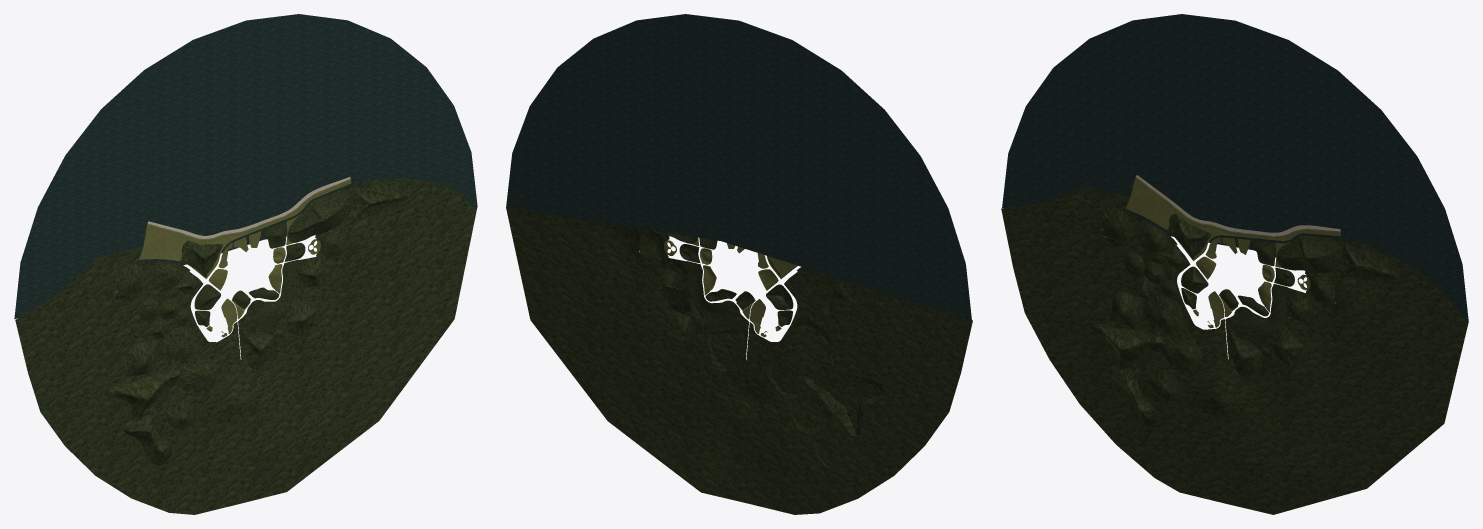
3 views of the same model, side by side, from view 1: azimuth 30°, elevation 25°; view 2: azimuth 150°, elevation 25°; view 3: azimuth 330°, elevation 25° (orthographic).
Parts seen in each view (by area): view 1: d_forest_3, d_ocean_0, d_forest_2, d_forest_1, d_grase_6, d_gravel_5, d_grase_4; view 2: d_ocean_0, d_forest_3, d_forest_1, d_forest_2, d_grase_6; view 3: d_forest_3, d_ocean_0, d_forest_2, d_forest_1, d_grase_6, d_gravel_5, d_grase_4.
Part boxes in pixels (x1,y1,x2,y2): d_forest_3: [15, 178, 477, 514]; d_ocean_0: [14, 14, 477, 319]; d_forest_2: [109, 240, 222, 465]; d_forest_1: [194, 181, 407, 369]; d_grase_6: [139, 180, 351, 337]; d_gravel_5: [148, 177, 350, 238]; d_grase_4: [147, 178, 350, 239]; d_ocean_0: [506, 14, 971, 320]; d_forest_3: [506, 194, 972, 514]; d_forest_1: [639, 229, 793, 372]; d_forest_2: [761, 256, 883, 466]; d_grase_6: [664, 237, 797, 337]; d_forest_3: [1001, 186, 1468, 514]; d_ocean_0: [1002, 14, 1468, 321]; d_forest_2: [1094, 206, 1211, 426]; d_forest_1: [1181, 235, 1397, 377]; d_grase_6: [1125, 177, 1340, 328]; d_gravel_5: [1136, 175, 1340, 235]; d_grase_4: [1135, 176, 1340, 237].
Size of the model in its own units: 1000000 by 990000 by 31065.
